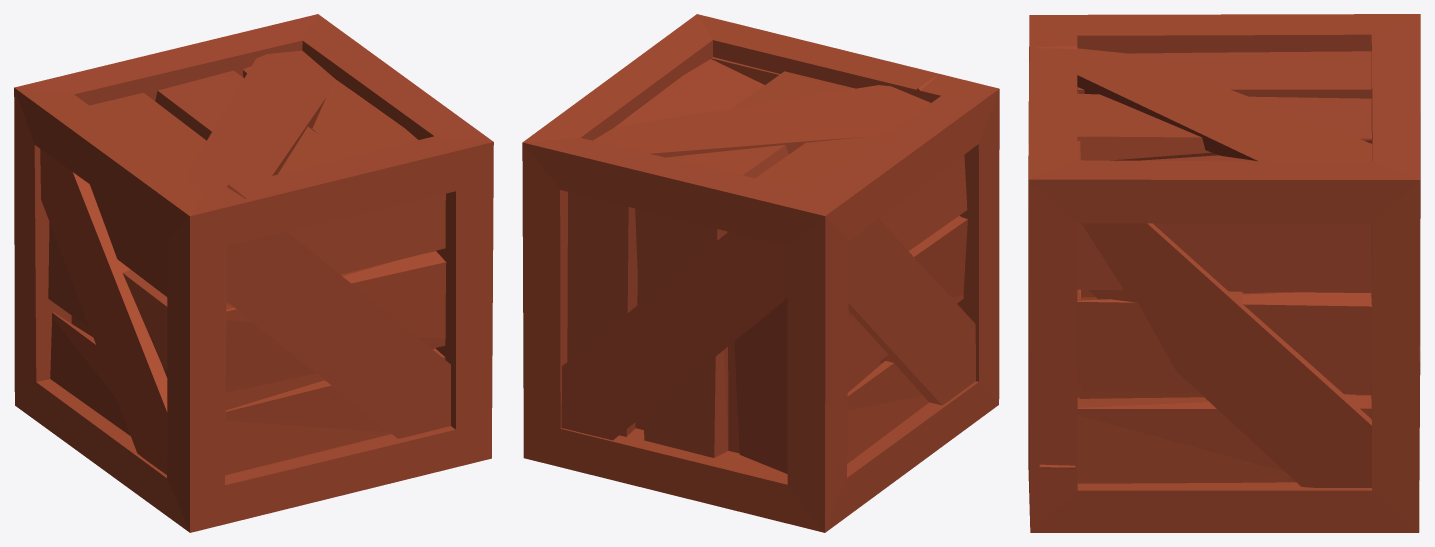
3 renders of one model, left to right at view 1: azimuth 30°, elevation 25°; view 2: azimuth 150°, elevation 25°; view 3: azimuth 270°, elevation 25°, orthographic. The views are drawn at different scales.
Parts seen in each view (by area): view 1: Box; view 2: Box; view 3: Box.
Boxes of the visible parts, <box> form: Box: <box>14,14,493,532</box>; Box: <box>522,14,999,532</box>; Box: <box>1028,14,1420,532</box>.
Bounding box in the file's own units: 2.02 × 2.02 × 2.01.
